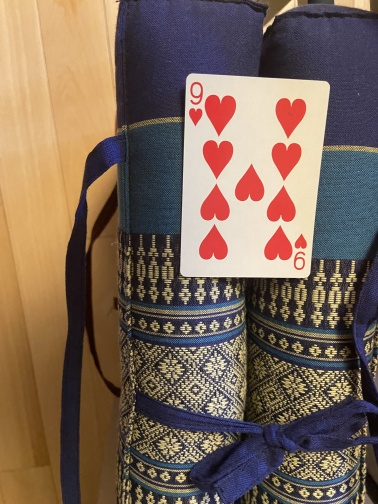nine: (178, 72, 331, 279)
